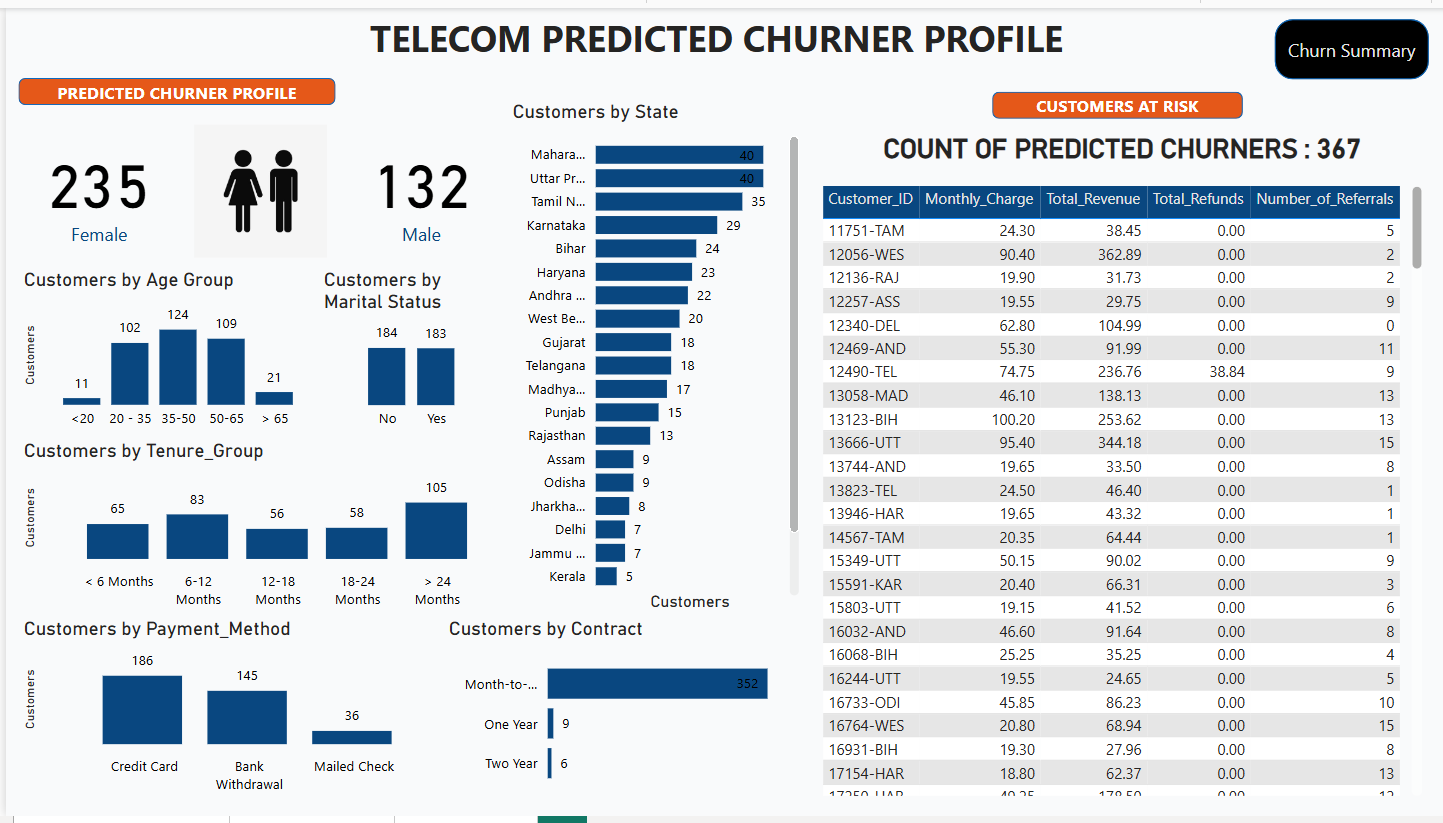

The page's visual inventory and layout, read from the dashboard file:
{"tool":"powerbi","page":{"name":"Churn Prediction","canvas":[1280,720],"ordinal":2},"visuals":[{"type":"tableEx","fields":{"Values":["Predictions.Customer_ID","Predictions.Monthly_Charge","Predictions.Total_Revenue","Predictions.Total_Refunds","Predictions.Number_of_Referrals"]},"box":[721.8,153.7,544.8,553],"z":0},{"type":"card","fields":{"Values":["Measure_Table.Title Predicted Churners"]},"box":[749.2,94.7,489.9,59],"z":1000},{"type":"card","fields":{"Values":["Measure_Table.Count Predicted Churner"]},"box":[11,94.7,144.1,137.2],"z":2000},{"type":"card","fields":{"Values":["Measure_Table.Count Predicted Churner"]},"box":[293.7,94.7,152.3,137.2],"z":3000},{"type":"clusteredColumnChart","fields":{"Category":["mapping_AgeGrp.Age Group"],"Y":["CountNonNull(Predictions.Customer_ID)"]},"box":[11,231.9,267.6,152.3],"z":4000},{"type":"clusteredColumnChart","fields":{"Y":["CountNonNull(Predictions.Customer_ID)"],"Category":["Predictions.Married"]},"box":[278.6,231.9,167.4,152.3],"z":5000},{"type":"clusteredColumnChart","fields":{"Y":["CountNonNull(Predictions.Customer_ID)"],"Category":["mapping_TenureGrp.Tenure_Group"]},"box":[11,384.2,435,157.8],"z":6000},{"type":"clusteredColumnChart","fields":{"Y":["CountNonNull(Predictions.Customer_ID)"],"Category":["Predictions.Payment_Method"]},"box":[11,542,378.7,164.7],"z":7000},{"type":"barChart","fields":{"Category":["Predictions.Contract"],"Y":["CountNonNull(Predictions.Customer_ID)"]},"box":[389.7,542,321.1,164.7],"z":8000},{"type":"barChart","fields":{"Category":["Predictions.State"],"Y":["CountNonNull(Predictions.Customer_ID)"]},"box":[446,82.3,264.8,459.7],"z":9000},{"type":"image","box":[155.1,94.7,138.6,137.2],"z":10000},{"type":"shape","title":"Churn Summary","box":[1129.3,9.6,137.2,53.5],"z":11000}]}

Visuals, with their boxes in screenshot pixels (x1, y1, x2, y2), scaled from the page's 1280x720 canvas onto the 1443x823 screenshot:
tableEx - Predictions.Customer_ID x Predictions.Monthly_Charge: Rect(814, 176, 1428, 808)
card - Measure_Table.Title Predicted Churners: Rect(845, 108, 1397, 176)
card - Measure_Table.Count Predicted Churner: Rect(12, 108, 175, 265)
card - Measure_Table.Count Predicted Churner: Rect(331, 108, 503, 265)
clusteredColumnChart - mapping_AgeGrp.Age Group x CountNonNull(Predictions.Customer_ID): Rect(12, 265, 314, 439)
clusteredColumnChart - CountNonNull(Predictions.Customer_ID) x Predictions.Married: Rect(314, 265, 503, 439)
clusteredColumnChart - CountNonNull(Predictions.Customer_ID) x mapping_TenureGrp.Tenure_Group: Rect(12, 439, 503, 620)
clusteredColumnChart - CountNonNull(Predictions.Customer_ID) x Predictions.Payment_Method: Rect(12, 620, 439, 808)
barChart - Predictions.Contract x CountNonNull(Predictions.Customer_ID): Rect(439, 620, 801, 808)
barChart - Predictions.State x CountNonNull(Predictions.Customer_ID): Rect(503, 94, 801, 620)
image: Rect(175, 108, 331, 265)
"Churn Summary" shape: Rect(1273, 11, 1428, 72)
